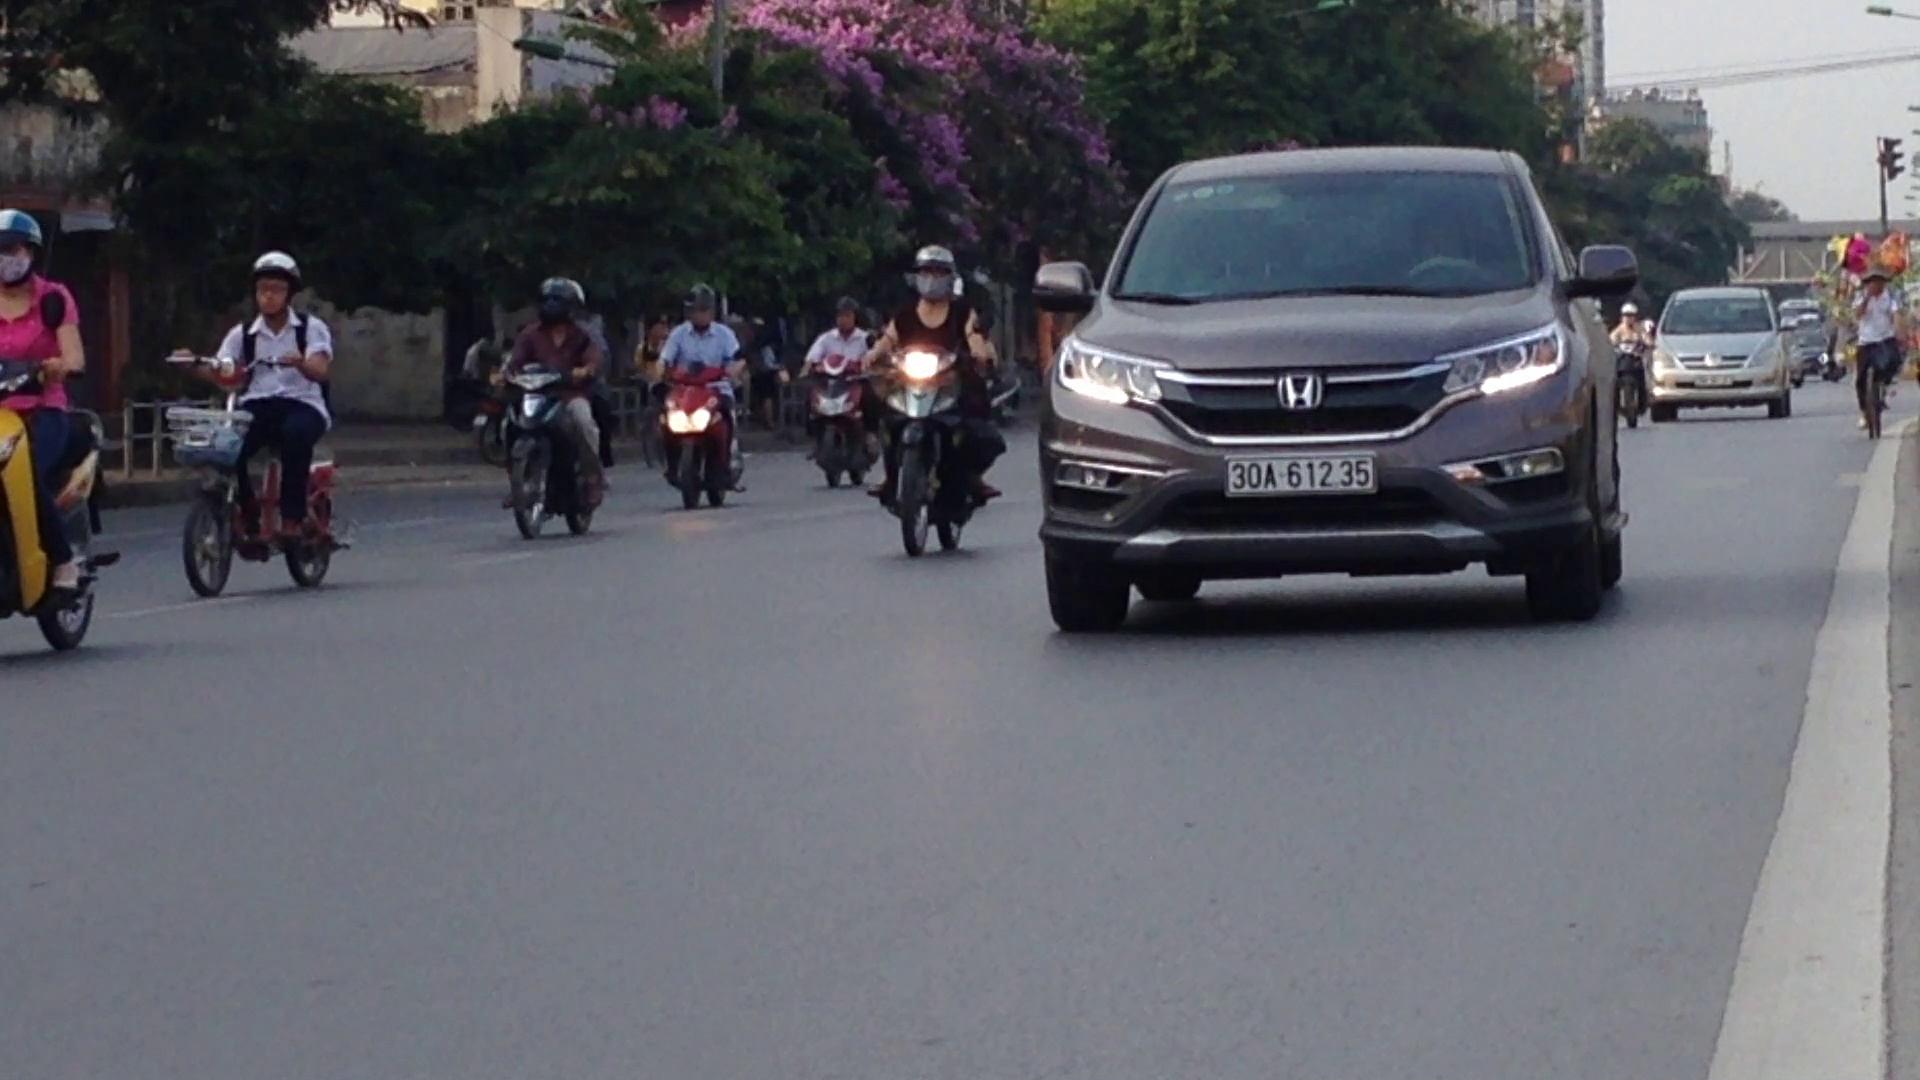vehicle-plate: (1216, 446, 1382, 496)
